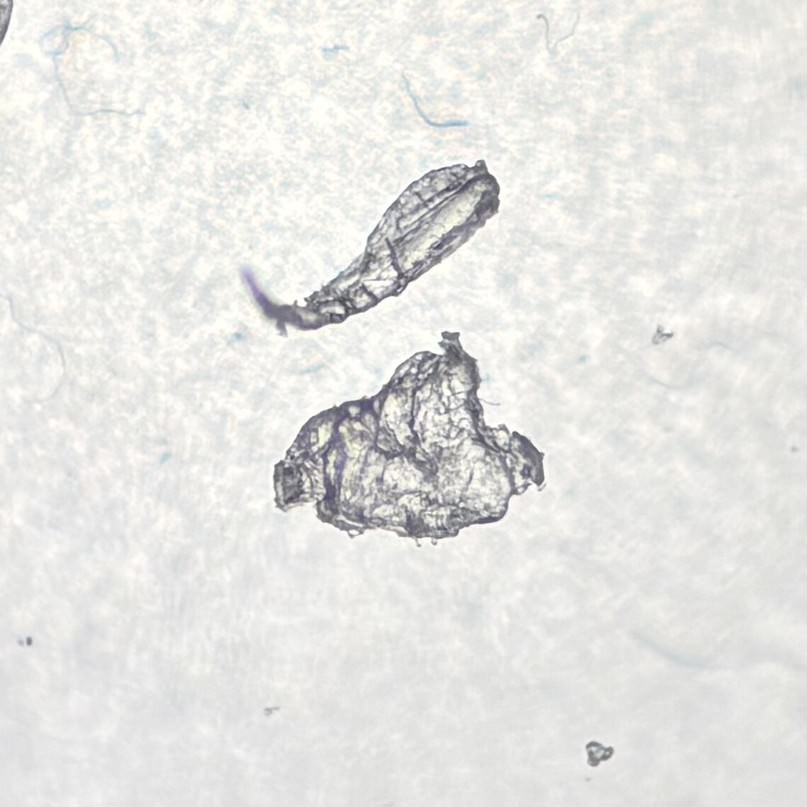microplastic: (269, 327, 556, 547), (231, 156, 506, 335)
